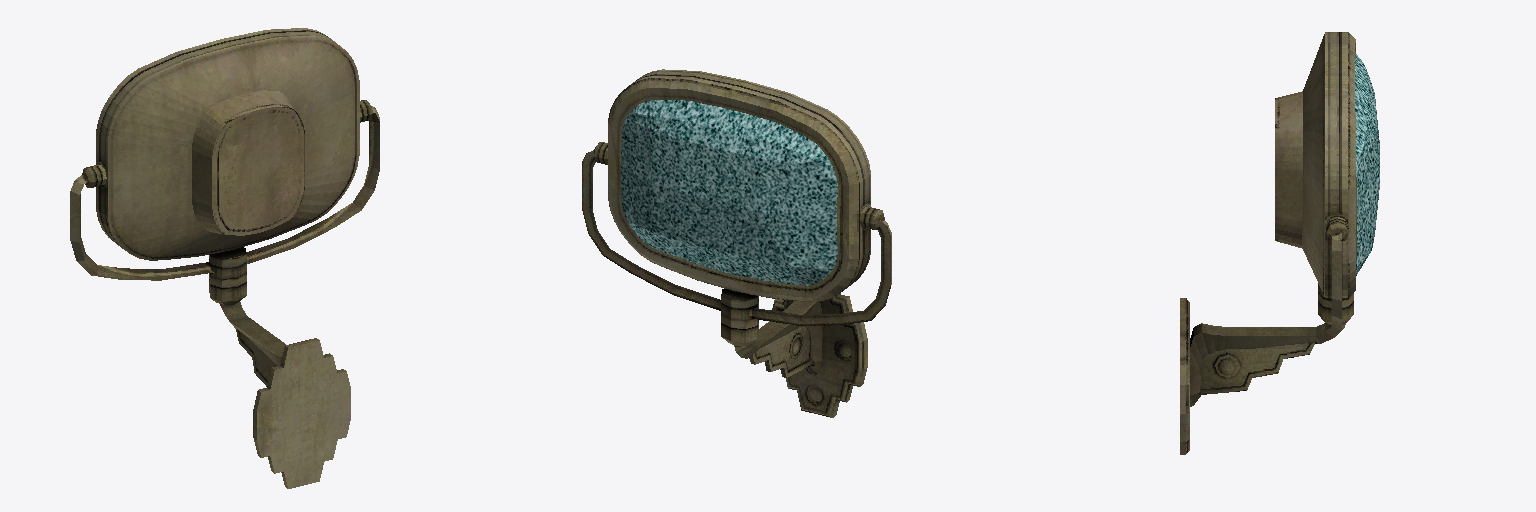
The picture shows the model from 3 angles: view 1: azimuth 30°, elevation 25°; view 2: azimuth 150°, elevation 25°; view 3: azimuth 270°, elevation 25°; orthographic projection.
Visible parts, largest first — view 1: tv_wall_mounted; view 2: tv_wall_mounted; view 3: tv_wall_mounted.
Boxes of the visible parts, <box> form: tv_wall_mounted: <box>70,28,379,488</box>; tv_wall_mounted: <box>582,69,891,417</box>; tv_wall_mounted: <box>1180,32,1379,454</box>.
Size of the model in its own units: 103 by 122 by 58.
2 materials, 2 textured.